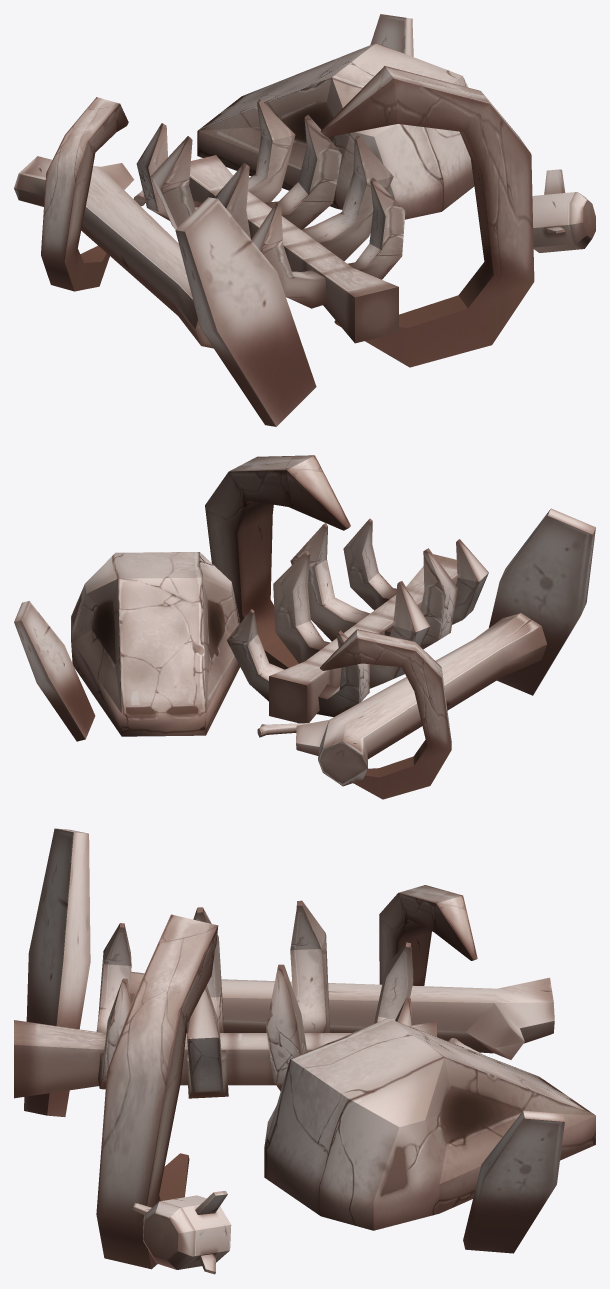
The model's file is Graveyard_AnimalBone.fbx.
3 renders of one model, top to bottom at view 1: azimuth 30°, elevation 25°; view 2: azimuth 150°, elevation 25°; view 3: azimuth 270°, elevation 25°, orthographic. The views are drawn at different scales.
Parts seen in each view (by area): view 1: Backbone8, Head, BackBone3, Bone, Backbone7, Backbone1, Backbone6, Backbone4, Backbone5, BackBone4, Backbone2, BackBone5; view 2: Head, Backbone8, Bone, BackBone3, Backbone7, Backbone5, Backbone6, Backbone1, BackBone5, Backbone4, BackBone4; view 3: Head, Backbone8, Bone, BackBone3, BackBone5, Backbone1, Backbone6, Backbone7, Backbone2, Backbone5, Backbone4, BackBone4.
Part boxes in pixels (box(x1,y1,x2,y2)): Backbone8: box(320, 66, 534, 367); Head: box(197, 43, 474, 219); BackBone3: box(175, 197, 316, 426); Bone: box(14, 156, 213, 348); Backbone7: box(41, 97, 128, 291); Backbone1: box(189, 155, 398, 343); Backbone6: box(150, 115, 341, 229); Backbone4: box(251, 177, 405, 308); Backbone5: box(214, 135, 393, 261); BackBone4: box(136, 99, 295, 220); Backbone2: box(532, 169, 595, 252); BackBone5: box(370, 14, 413, 56); Head: box(71, 552, 239, 736); Backbone8: box(205, 455, 350, 669); Bone: box(296, 613, 547, 786); BackBone3: box(489, 508, 595, 695); Backbone7: box(320, 629, 451, 799); Backbone5: box(290, 523, 457, 649); Backbone6: box(273, 551, 430, 688); Backbone1: box(269, 554, 457, 723); BackBone5: box(14, 601, 95, 741); Backbone4: box(343, 518, 488, 624); BackBone4: box(226, 609, 370, 716); Head: box(264, 1018, 595, 1230); Backbone8: box(96, 914, 218, 1269); Bone: box(129, 971, 554, 1059); BackBone3: box(24, 828, 90, 1116); BackBone5: box(463, 1110, 564, 1253); Backbone1: box(14, 1020, 436, 1098); Backbone6: box(266, 900, 330, 1091); Backbone7: box(379, 885, 477, 985); Backbone2: box(132, 1191, 231, 1274); Backbone5: box(186, 907, 228, 1098); Backbone4: box(96, 923, 131, 1089); BackBone4: box(374, 942, 413, 1026).
Size of the model in its own units: 4.07 by 2.28 by 3.7.
